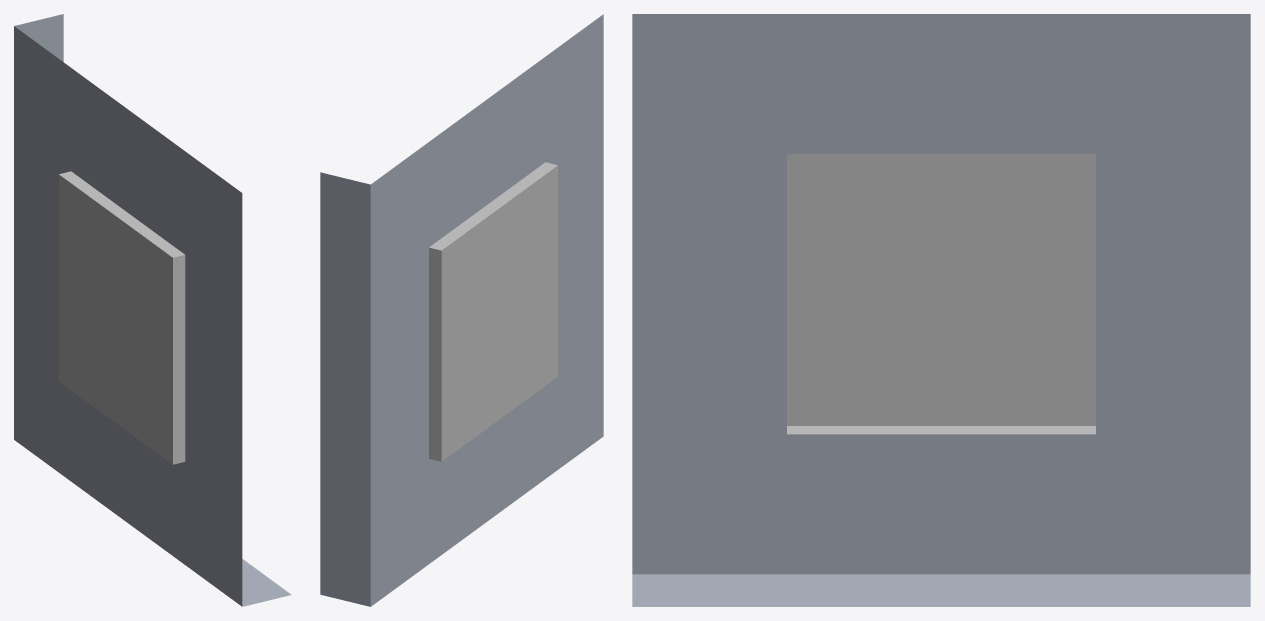
File: cell_233.obj
3 views of the same model, side by side, from view 1: azimuth 30°, elevation 25°; view 2: azimuth 150°, elevation 25°; view 3: azimuth 270°, elevation 25° (orthographic). The views are drawn at different scales.
Bounding box in the file's own units: 0.1562 × 1 × 1.
